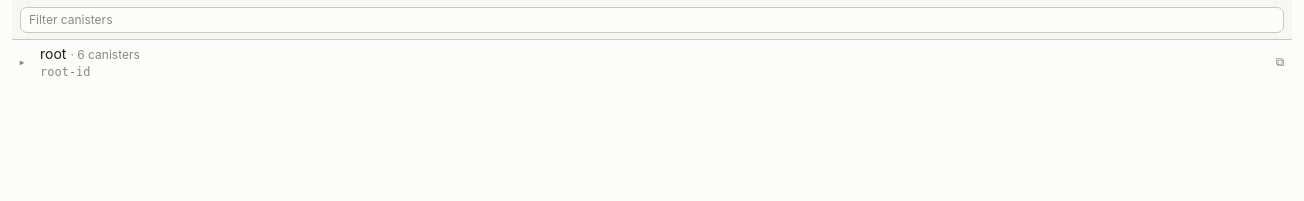
it: a filtered tree says how much it is hiding
This screenshot has width=1304, height=201.
Type "user" into the search field labelled "Filter canisters" at [652, 20], box [20,7,1284,33]
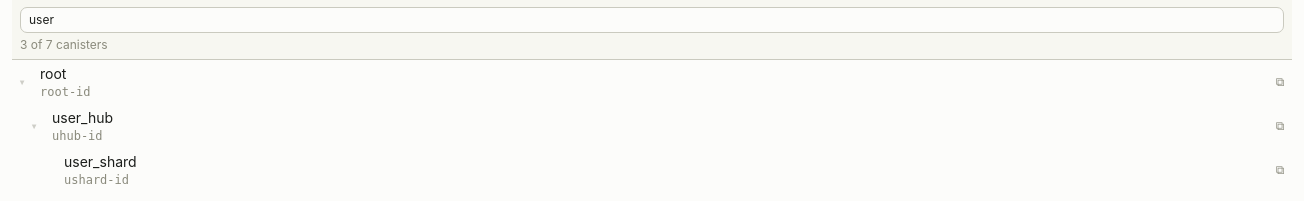
Expected: the text "3 of 7 canisters" is shown, [20,37,108,52]
